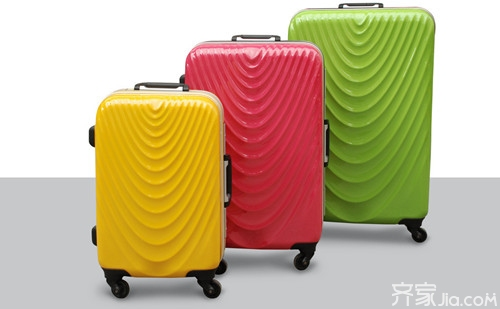luggage: (90, 82, 232, 298)
